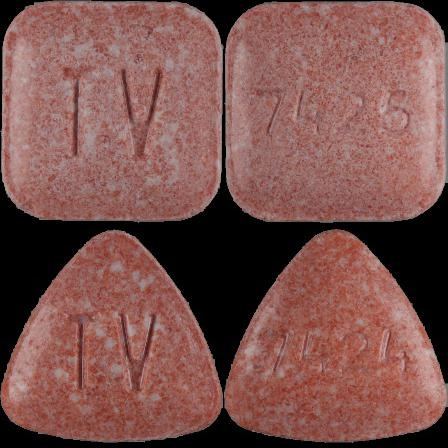54868-6362: (0, 0, 224, 224)
